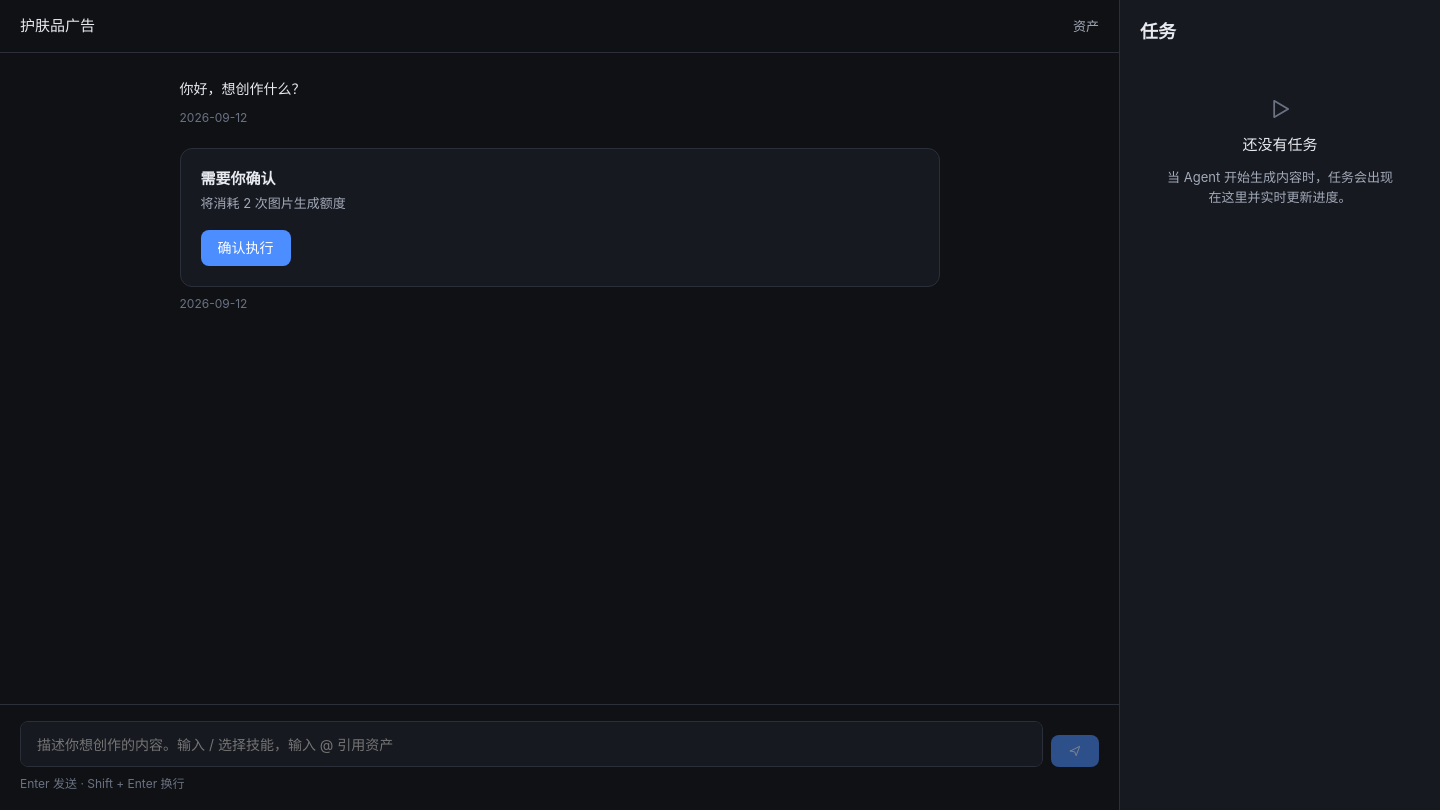
Test case: AgentWorkspace 接线：确认 › 点确认卡带着精确 taskIds 请求确认，提示结果并刷新任务面板
This screenshot has width=1440, height=810.
expect the heading "需要你确认" is shown: met, box x1=200 y1=168 x2=276 y2=188
Step 1. Click the button "确认执行" → [246, 248], box x1=200 y1=230 x2=290 y2=266
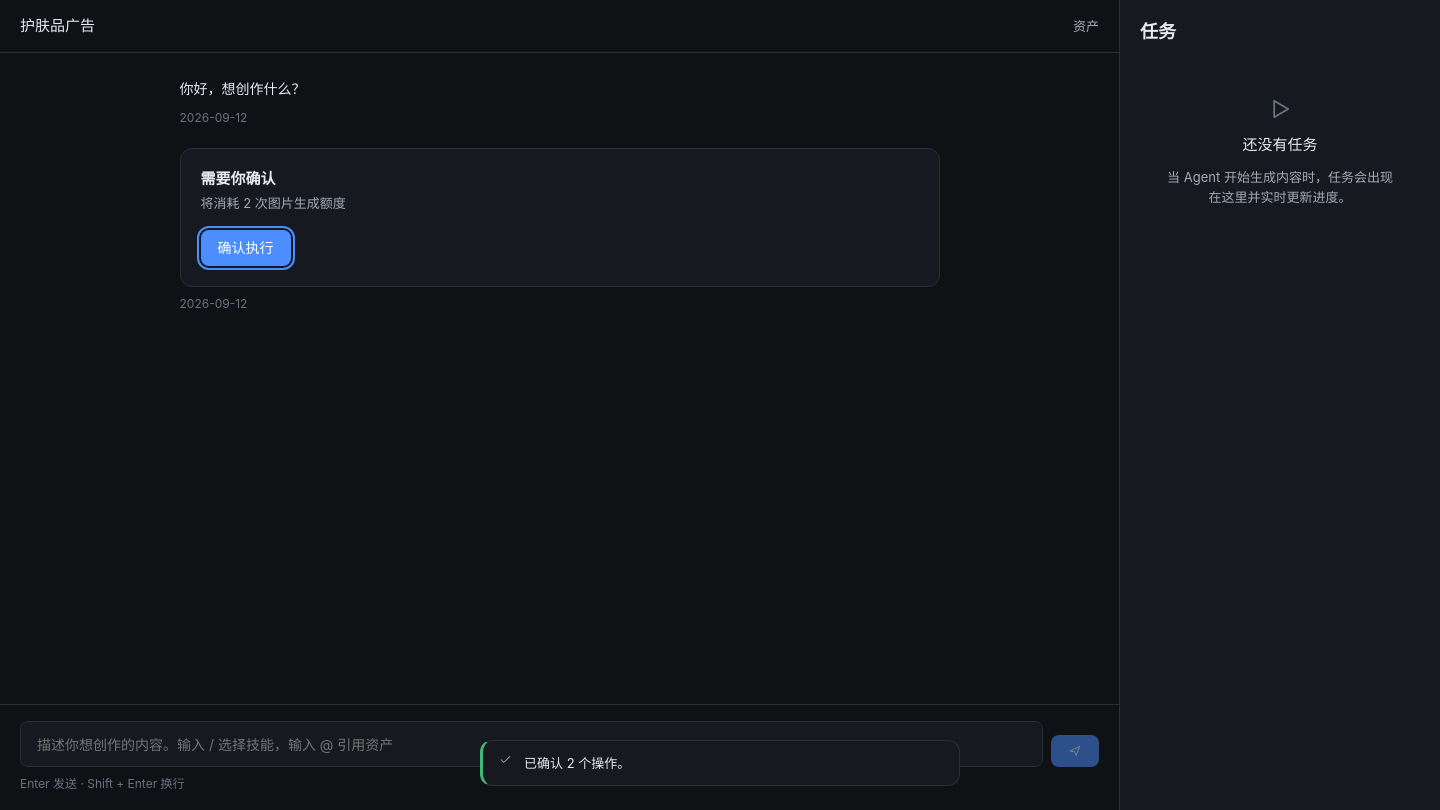
expect the text "已确认 2 个操作。" is shown: met, box x1=524 y1=753 x2=630 y2=773
